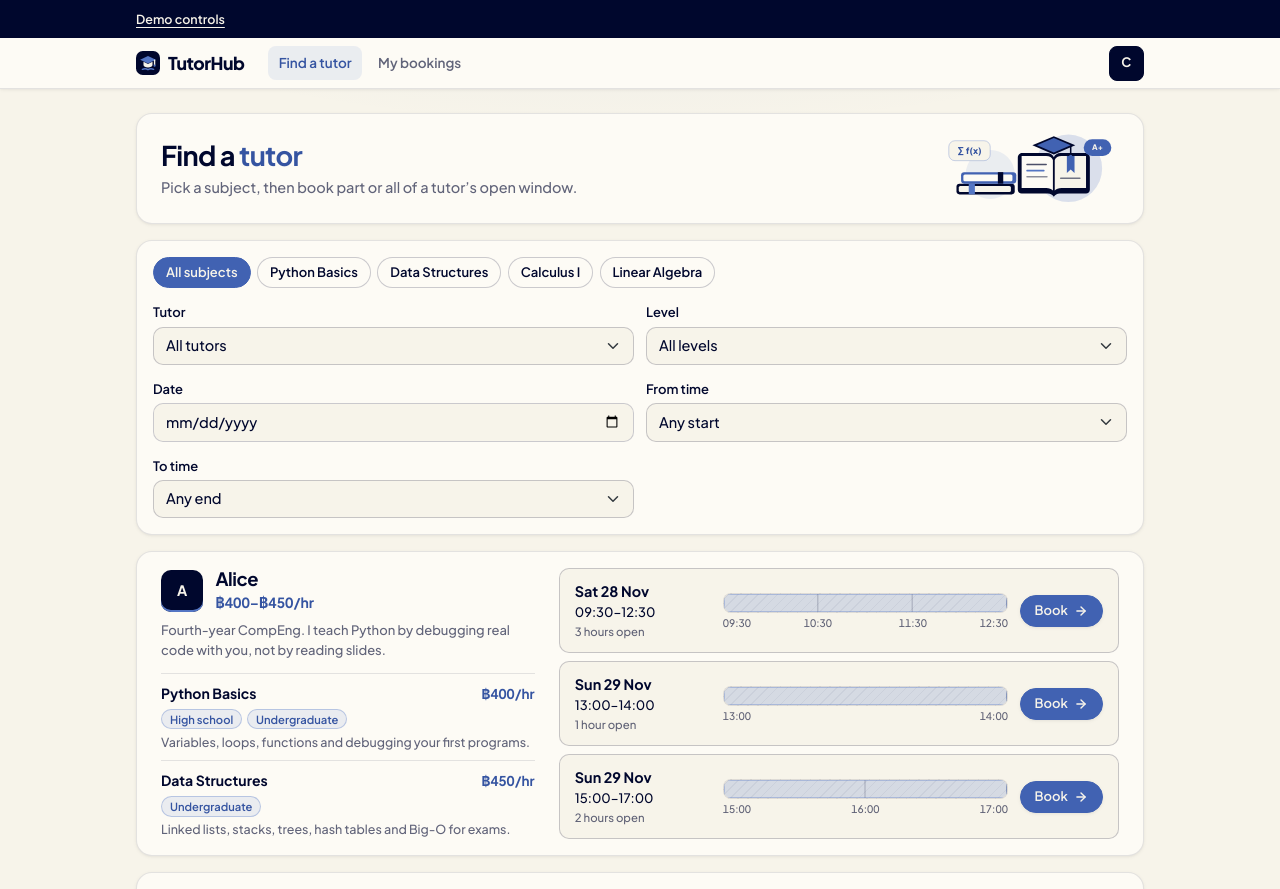
booking modal slot picker, subject pricing and files › prices the lesson at the chosen subject's rate
This screenshot has width=1280, height=889.
Step 1. Click the button with aria-label "Book Alice on" → (1061, 611), box [1020,595,1103,627]
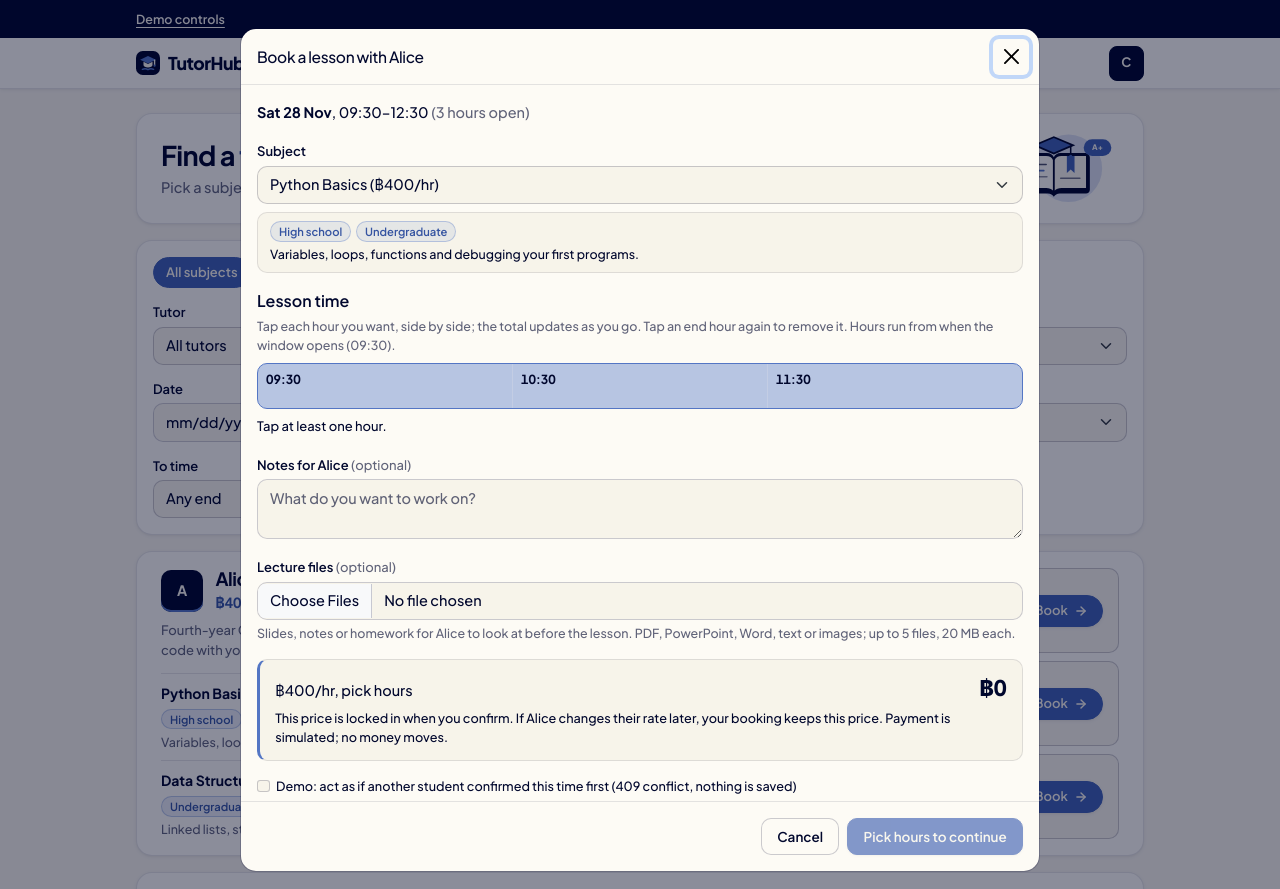
Step 2. Click the button named "09:30–10:30" → (385, 386), box [258,364,512,408]
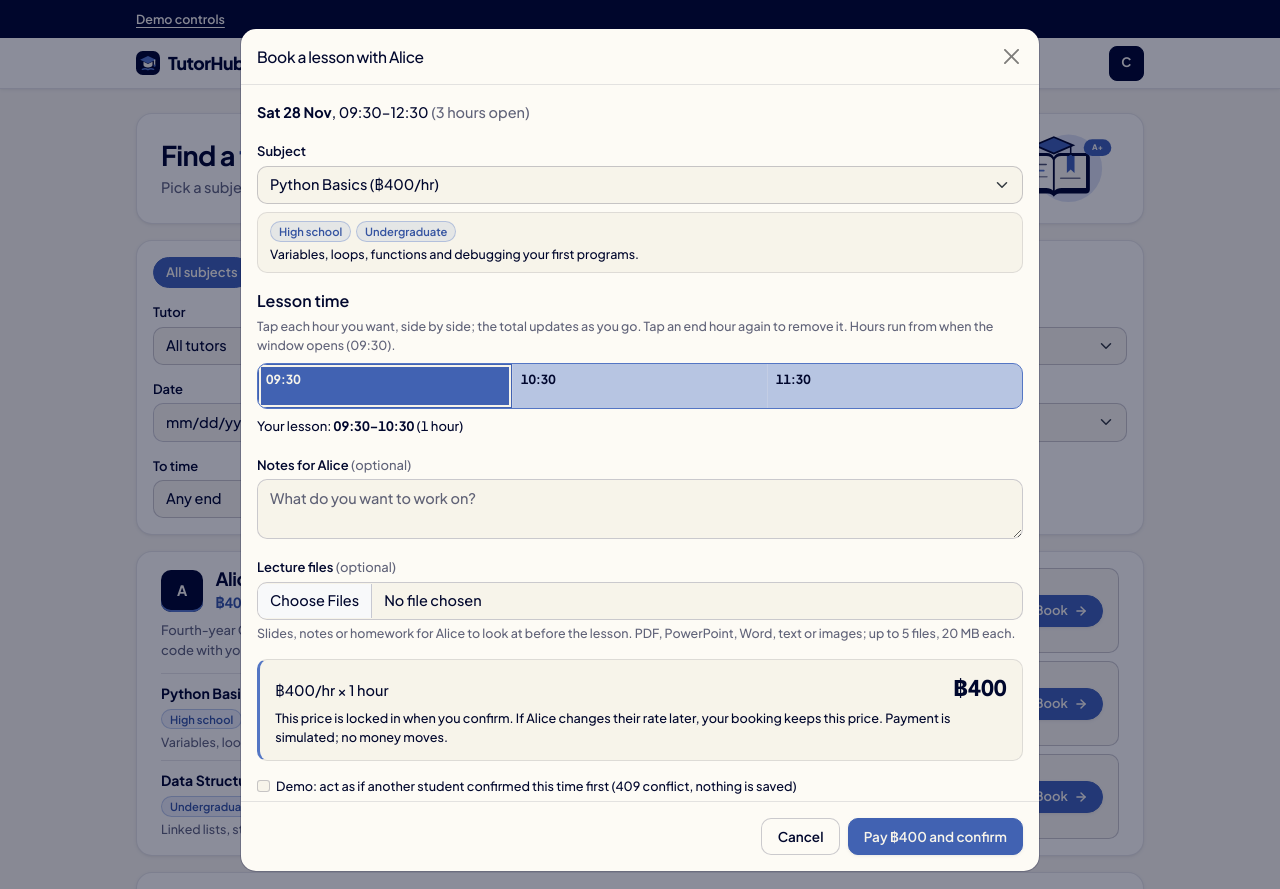
Step 3. Select "Data Structures (฿450/hr)" in the dropdown labelled "Subject" → (640, 185), box [257,166,1023,204]
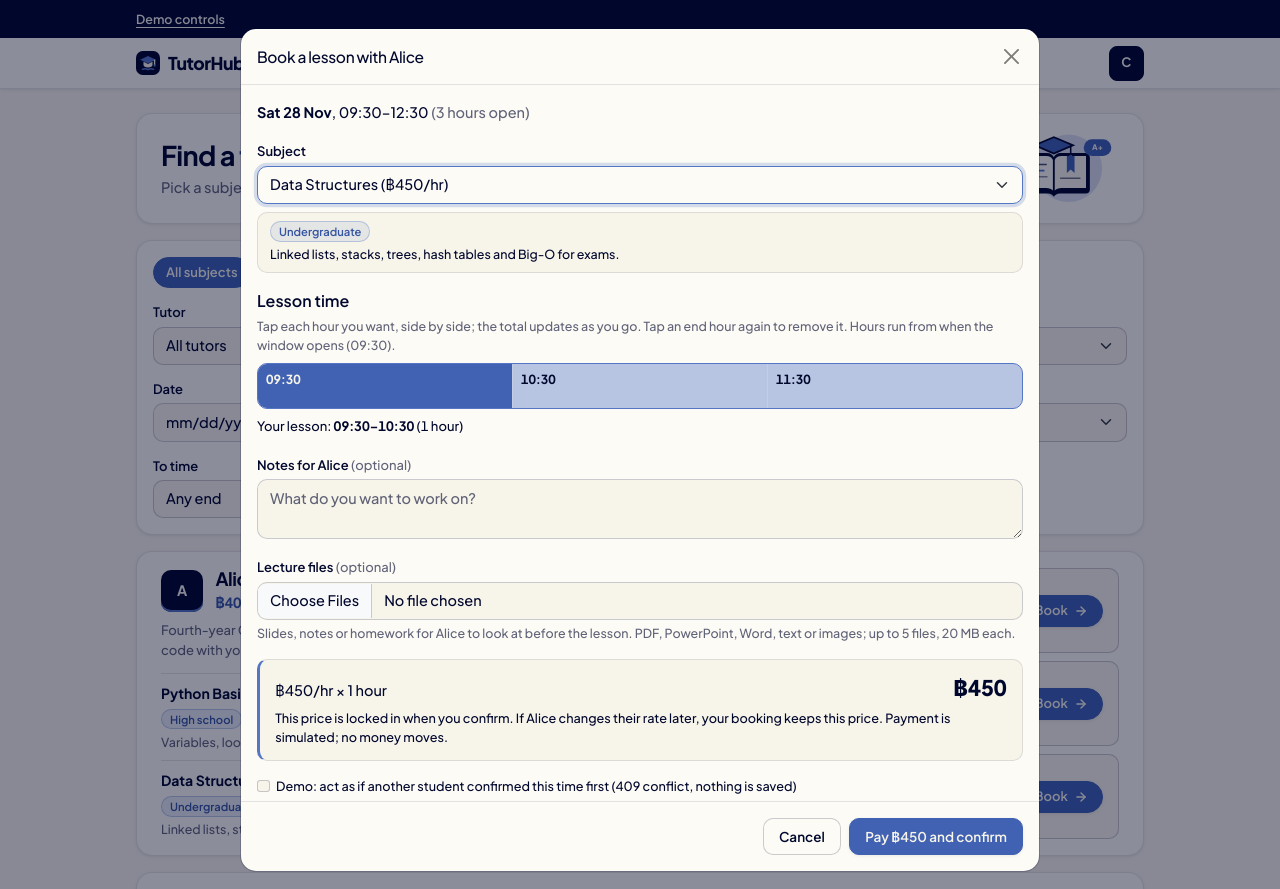
Now the button "Pay ฿450 and confirm" is shown, box [849,818,1023,855]
